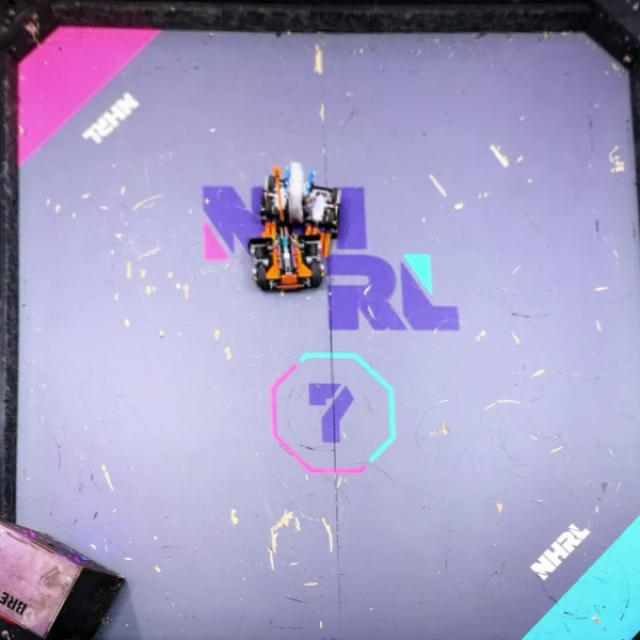housebot: (0, 519, 125, 640)
robot: (260, 161, 343, 257), (248, 218, 323, 291)
